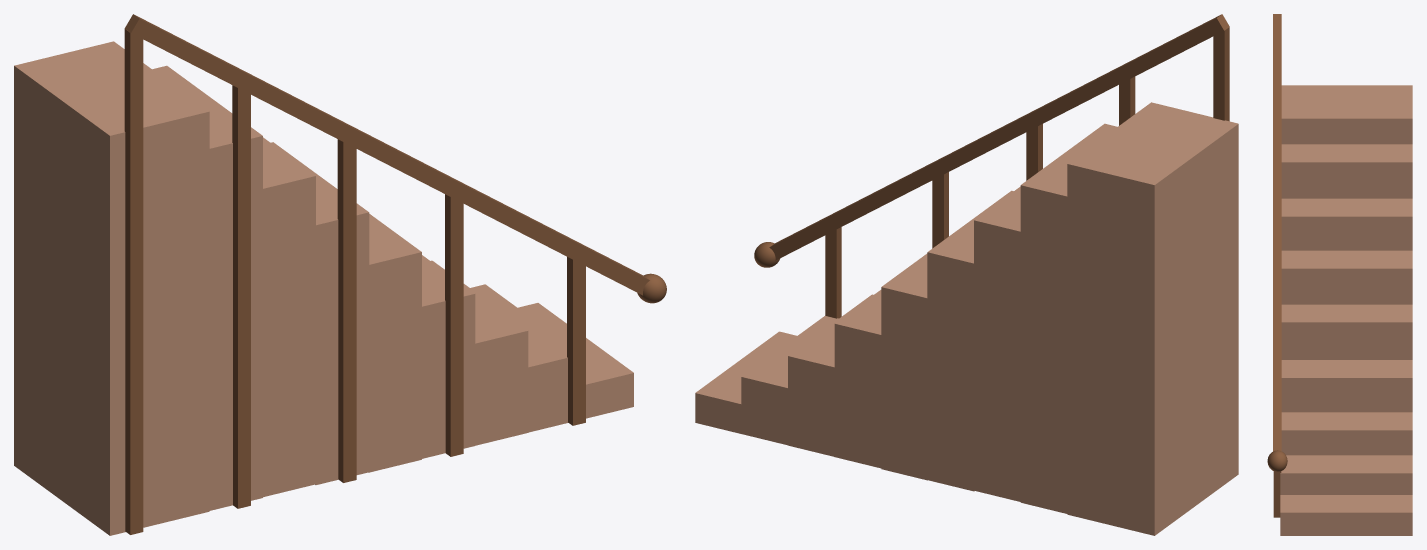
Rendered from stairs.fbx.
3 renders of one model, left to right at view 1: azimuth 30°, elevation 25°; view 2: azimuth 150°, elevation 25°; view 3: azimuth 270°, elevation 25°, orthographic. The views are drawn at different scales.
Parts seen in each view (by area): view 1: polySurface22; view 2: polySurface22; view 3: polySurface22.
Boxes of the visible parts, left/top/right/bottom form: polySurface22: left=14, top=14, right=666, bottom=535; polySurface22: left=695, top=14, right=1238, bottom=535; polySurface22: left=1267, top=14, right=1412, bottom=535.
Size of the model in its own units: 4.2 by 3.74 by 1.39.
